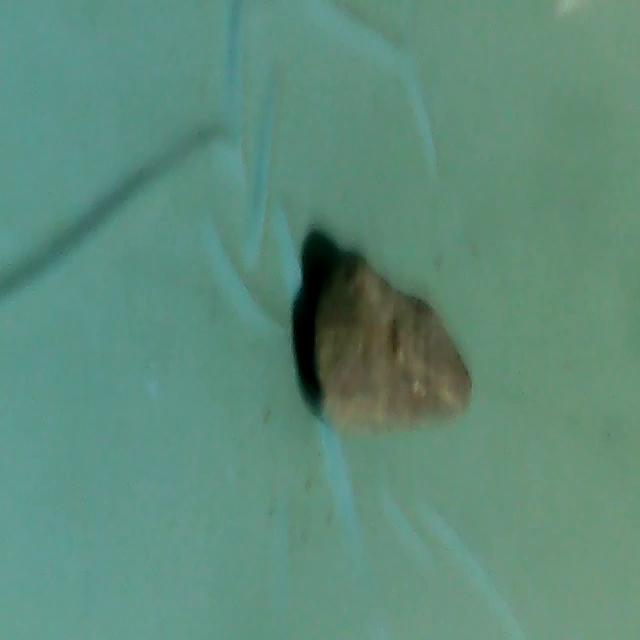rock: (296, 240, 480, 454)
